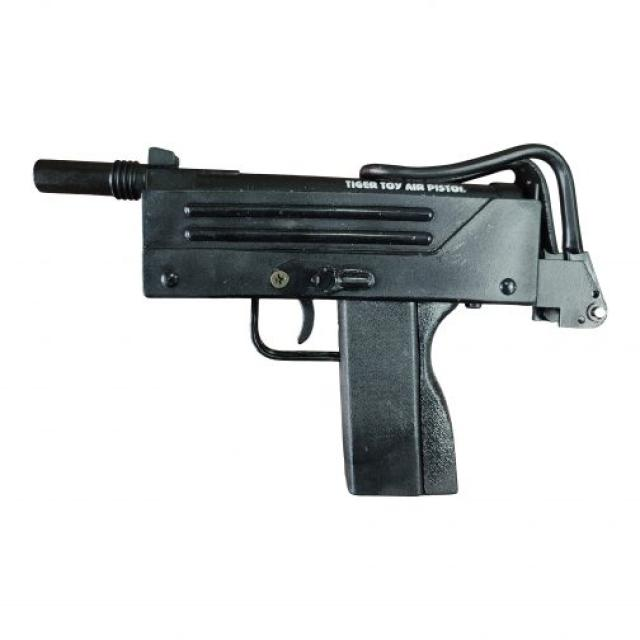Weapon: (16, 133, 616, 508)
